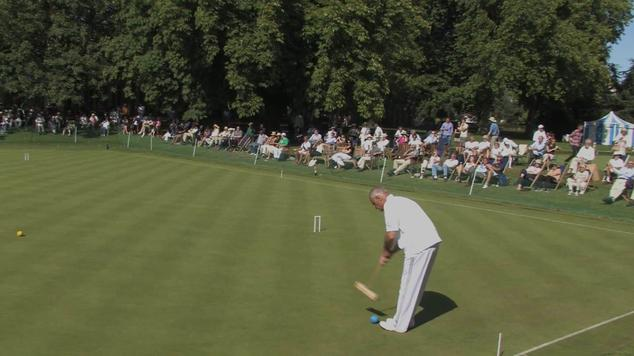sit: (608, 146, 632, 206), (391, 141, 427, 176), (519, 153, 550, 192), (566, 156, 591, 192), (430, 119, 454, 149), (300, 138, 324, 165), (530, 127, 550, 158), (330, 145, 353, 171), (485, 117, 504, 144), (263, 134, 280, 164)
walk: (365, 190, 447, 319)
